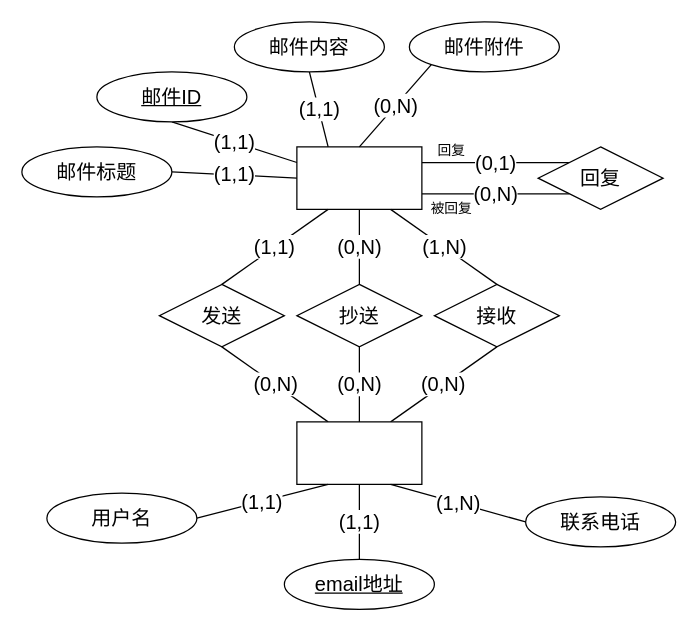
This 698x631 diagram has some shape labels left out. Here are the shapes that lost their labels. From the top down, the box of each, then its label:
(296, 146, 422, 209): 邮件
(296, 421, 422, 484): 邮件联系人
